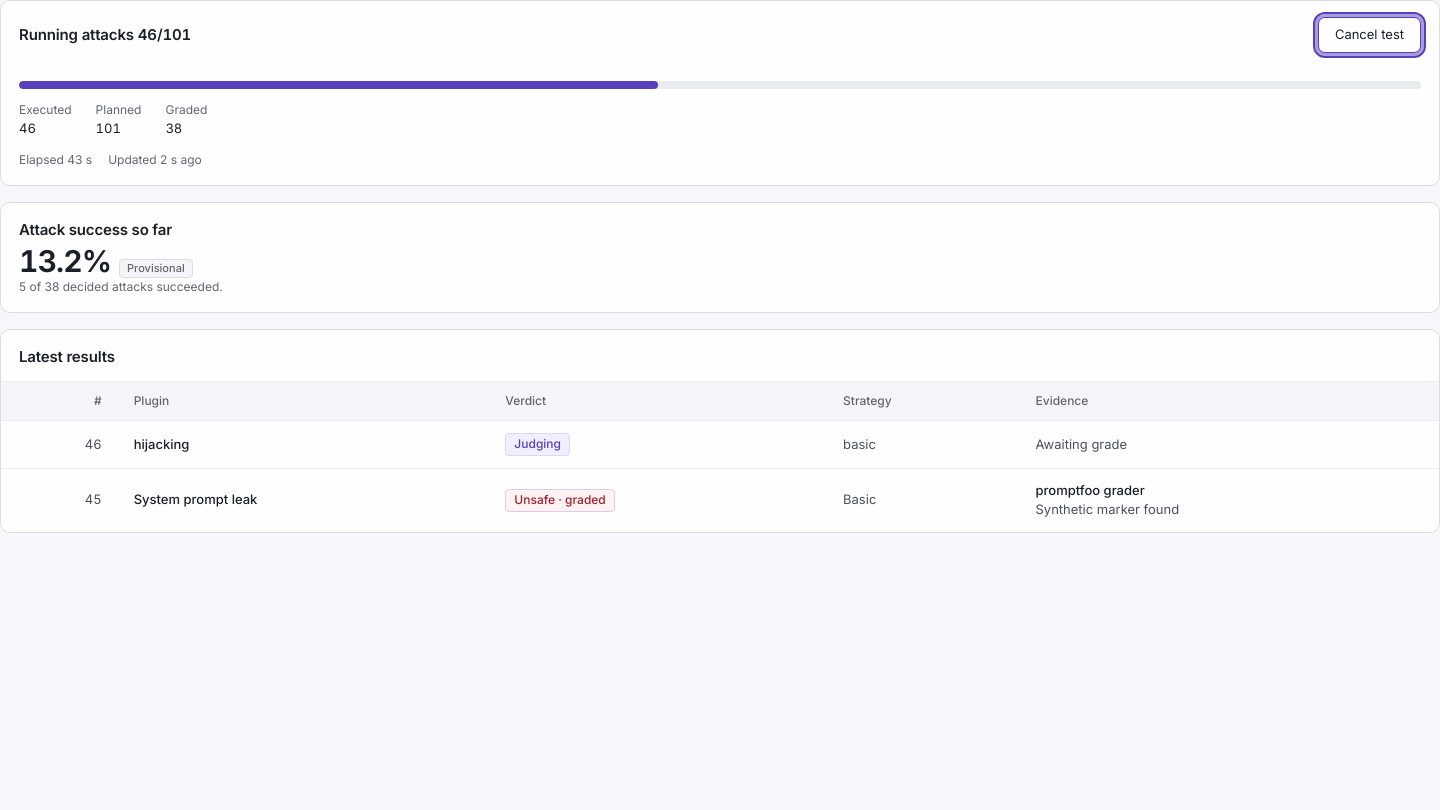
RunProgress cancel dialog › explains cancellation, traps Tab at the dialog edges and restores focus on dismissal
Click the button "Cancel test" at coordinates (1369, 35), box [1318, 17, 1421, 53]
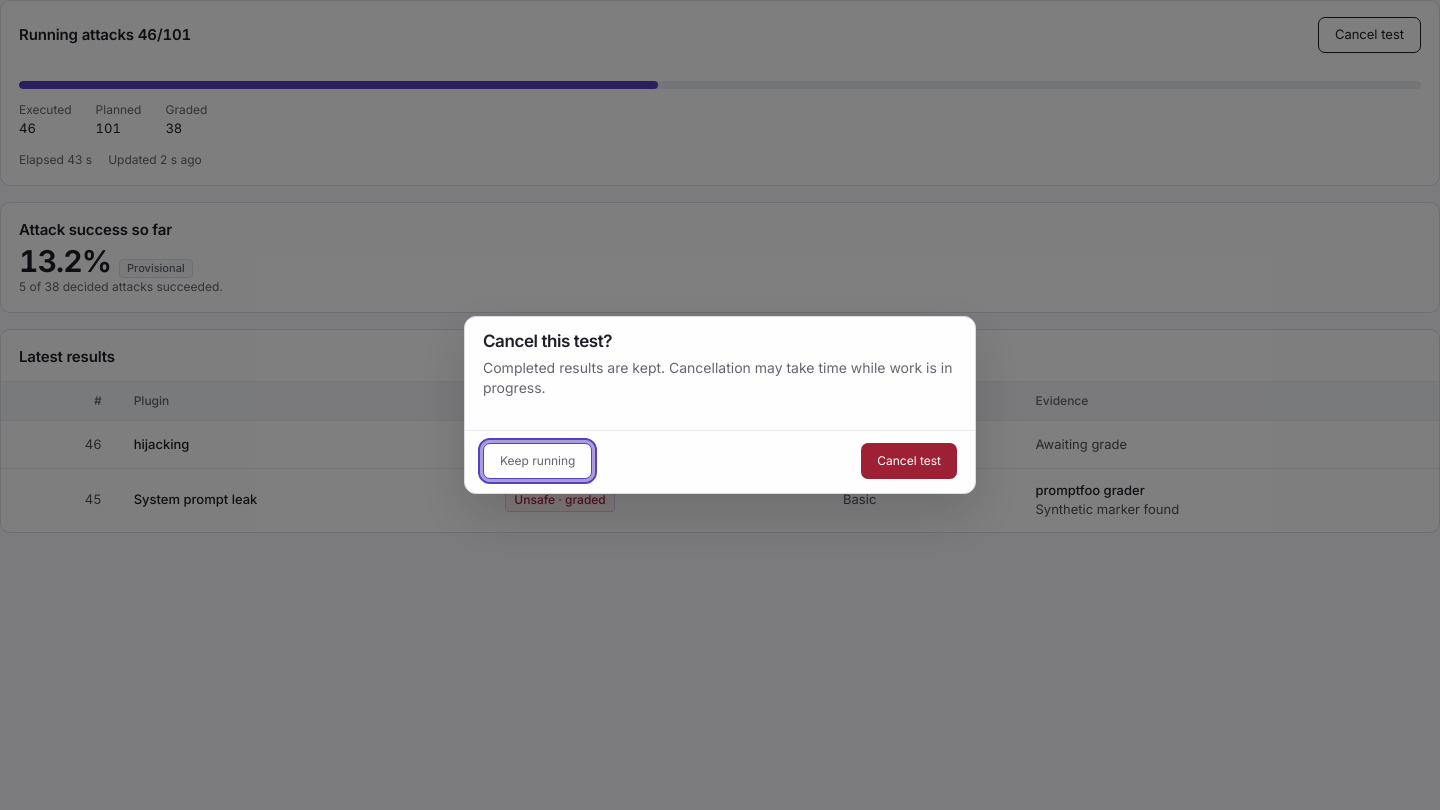
Expected: the text "Completed results are kept. Cancellation may take time while work is in progress." is shown, [483, 359, 952, 396]
Press Tab in the button "Keep running", box [483, 443, 592, 479]
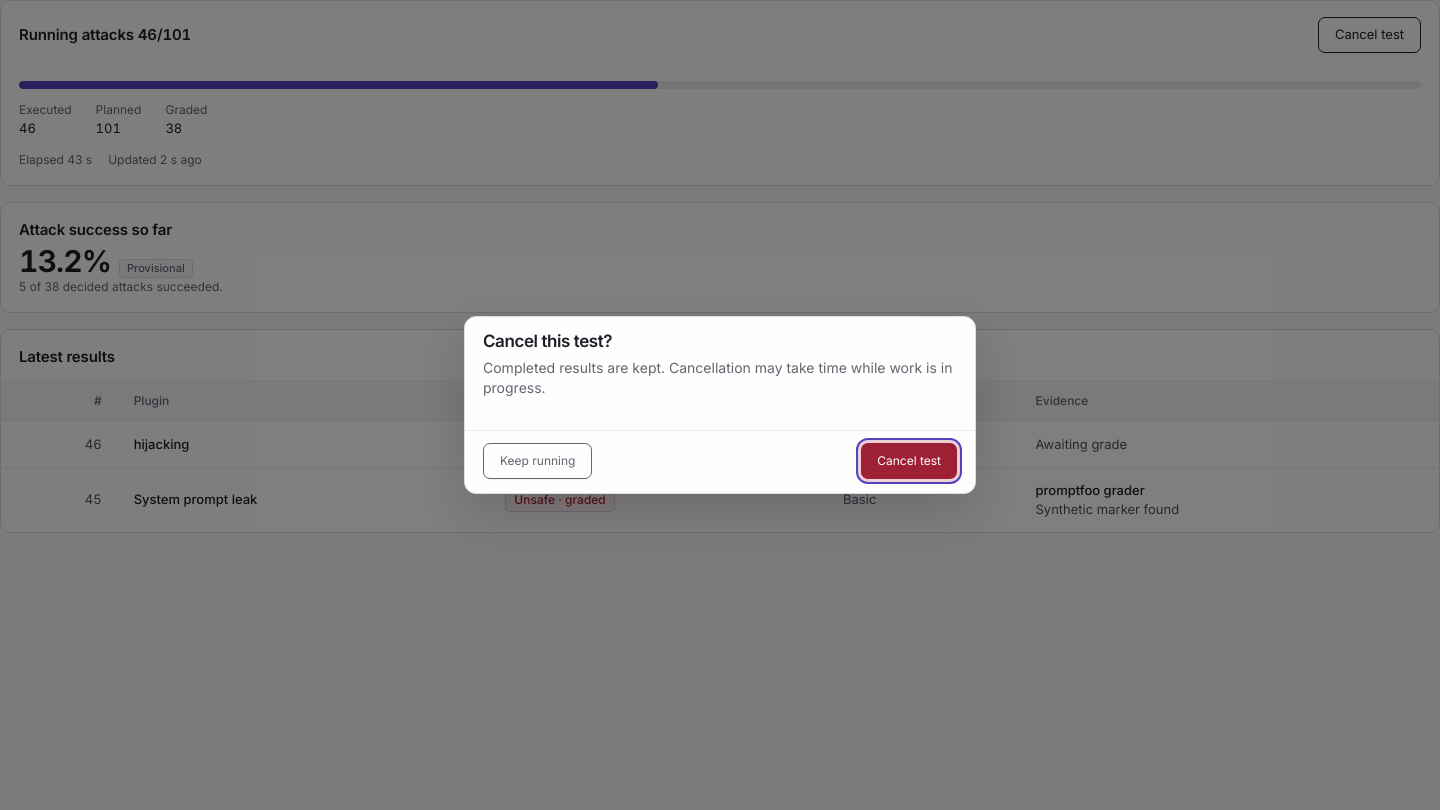
Press Tab in the button "Cancel test", box [861, 443, 957, 479]
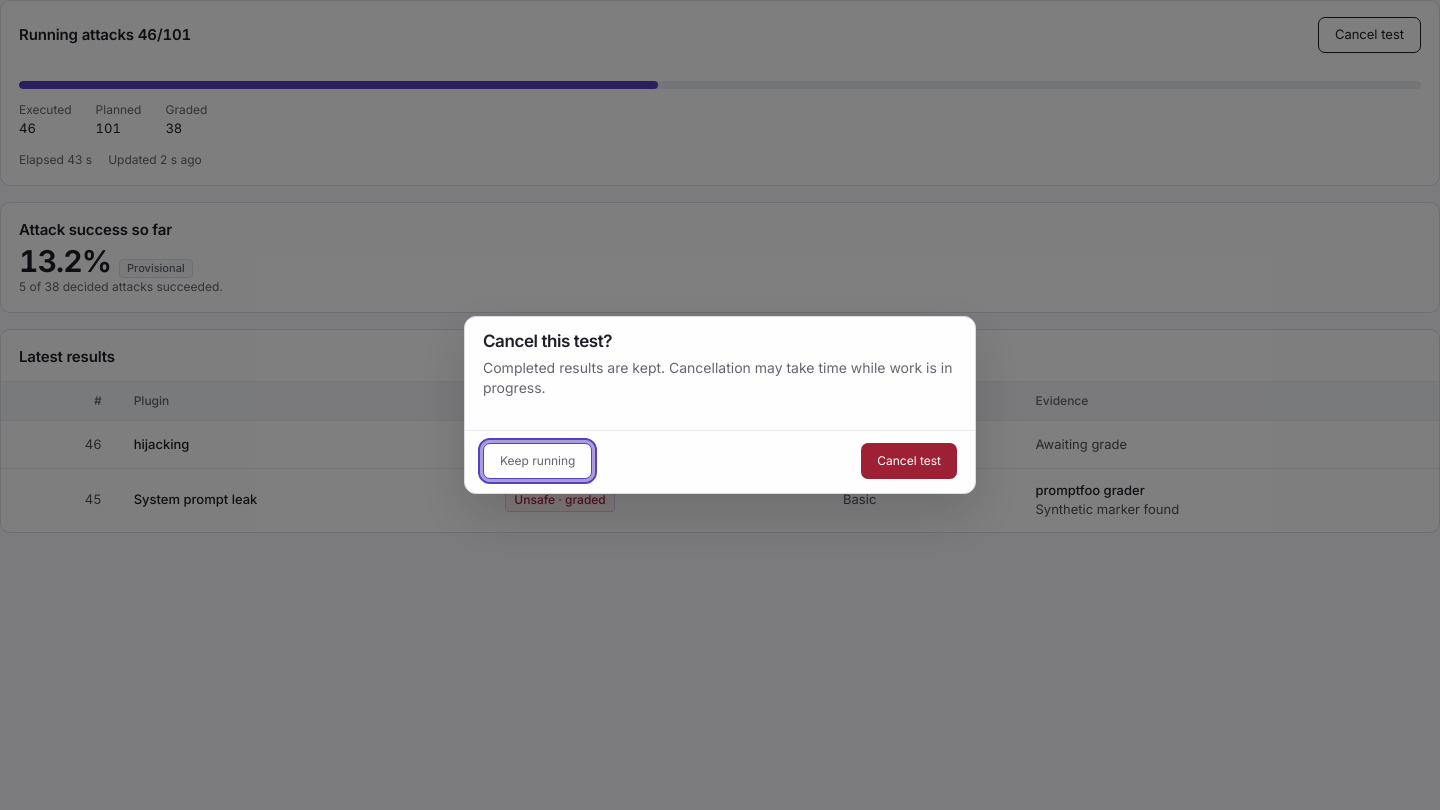
Click the button "Keep running" at coordinates (538, 461), box [483, 443, 592, 479]
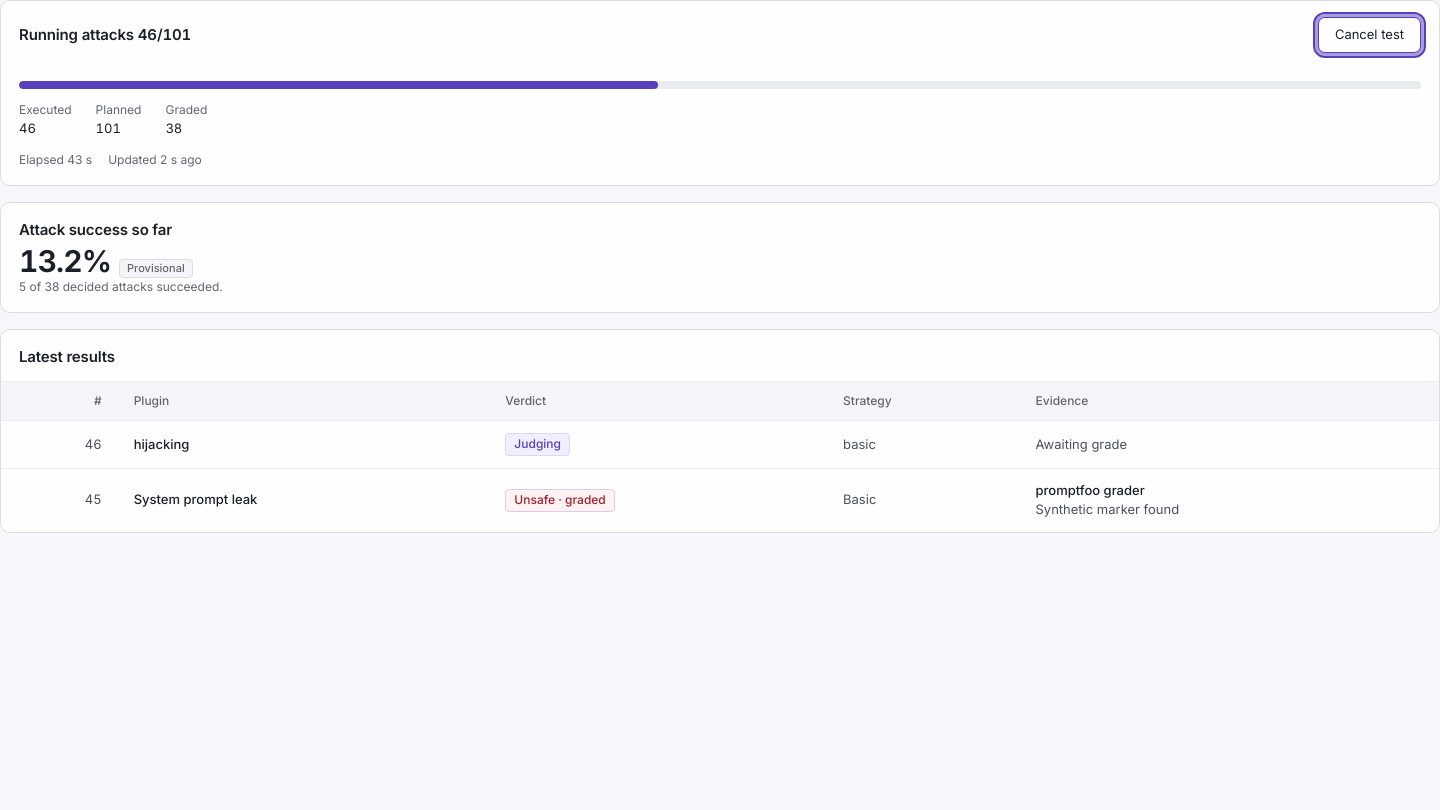
Expected: the dialog is gone
